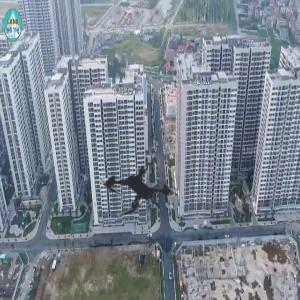drone: (73, 123, 207, 257)
